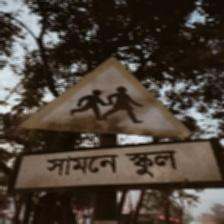School-in-front: (10, 54, 220, 195)
